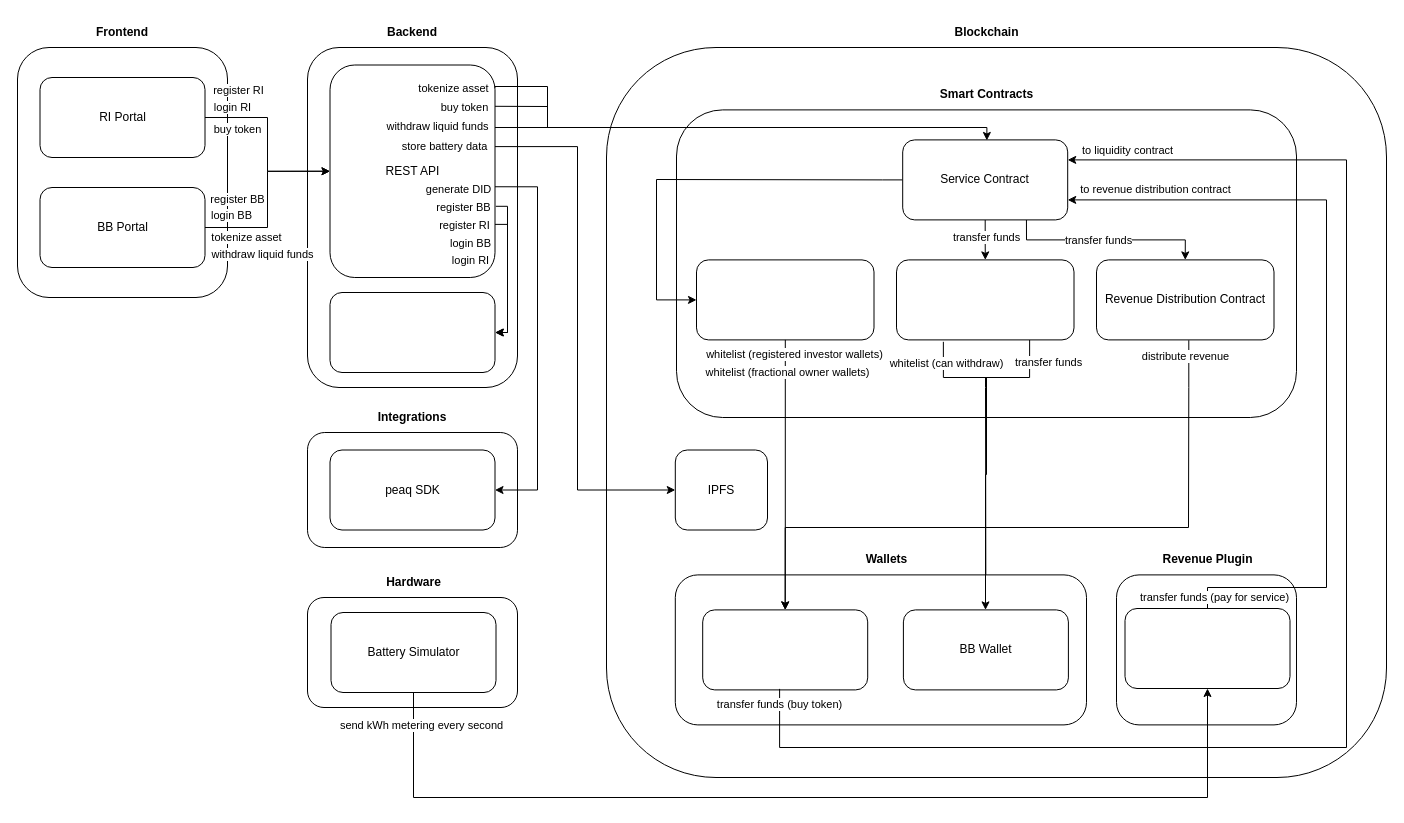
Some shapes in this 1404 by 823 pixel diagram are drawn without their labels. The centre of each missing label's shape, as x and y in pixels:
"Liquidity Contract" goes at (985,299).
"Revenue Receiver Contract" goes at (1207,648).
"RI Wallet" goes at (785,649).
"Security Token Contract ERC-1400" goes at (785,299).
"User Database" goes at (412,332).
